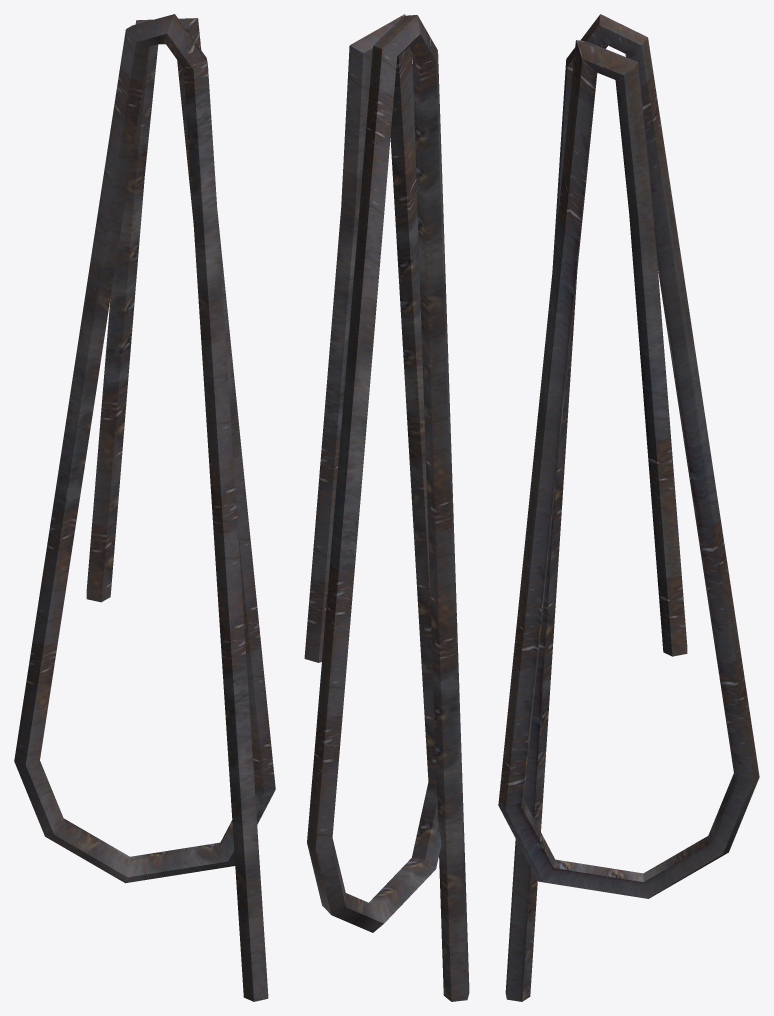
The model's file is CableA.FBX.
The picture shows the model from 3 angles, left to right: view 1: azimuth 90°, elevation 25°; view 2: azimuth 150°, elevation 25°; view 3: azimuth 270°, elevation 25°; orthographic projection. The views are drawn at different scales.
Parts seen in each view (by area): view 1: CableA; view 2: CableA; view 3: CableA.
Part boxes in pixels (bbox=[...]): CableA: bbox=[14, 14, 275, 1001]; CableA: bbox=[304, 14, 469, 1001]; CableA: bbox=[498, 14, 759, 1001].
Size of the model in its own units: 11.34 by 136 by 32.79.
1 material, 1 textured.
